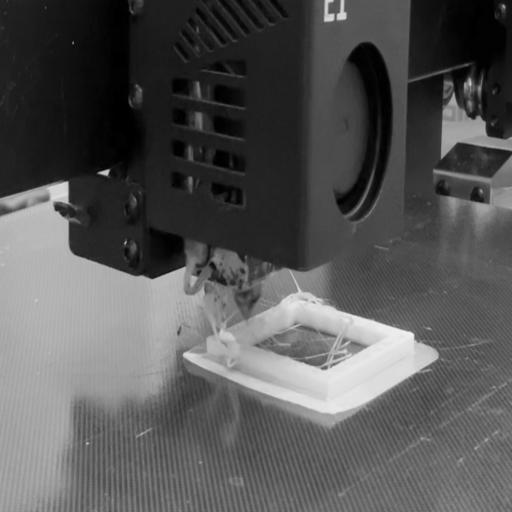spaghetti_and_stringing: (196, 276, 365, 374)
